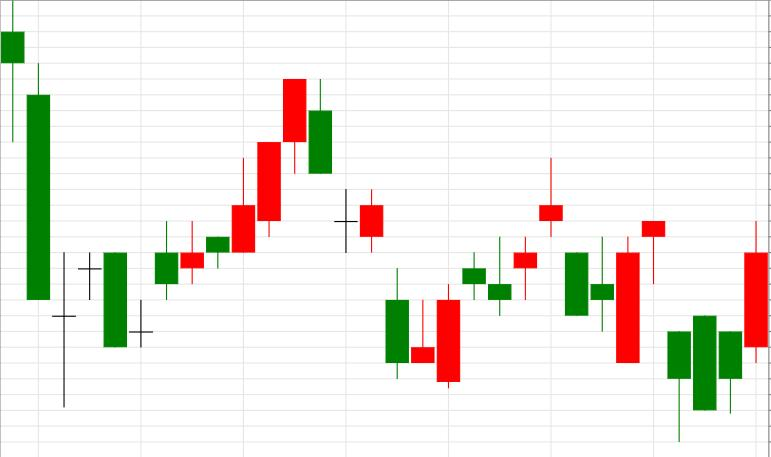evening_star_fall: (411, 158, 588, 389)
